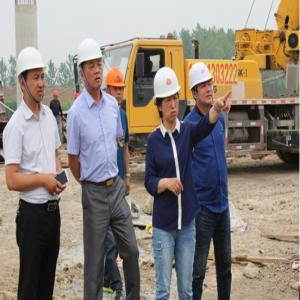red: (53, 89, 60, 102)
white: (16, 46, 48, 107), (152, 65, 182, 124), (78, 39, 104, 92), (189, 63, 217, 109)
yellow: (107, 67, 125, 104)
